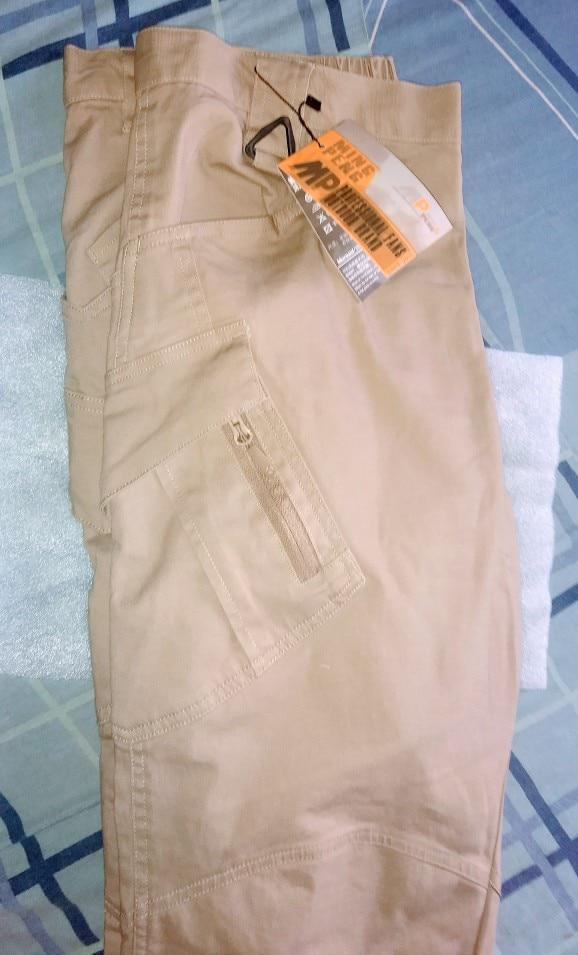pants: (50, 27, 500, 955)
